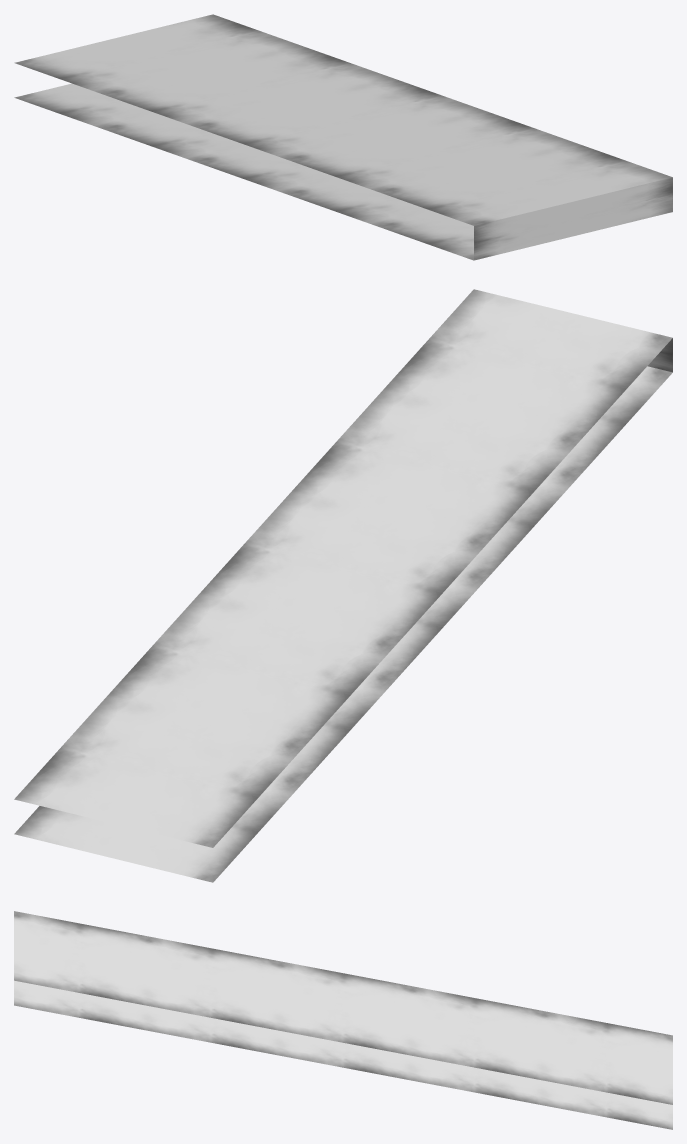
File: CourseWinter_Floor_1.fbx
3 renders of one model, top to bottom at view 1: azimuth 30°, elevation 25°; view 2: azimuth 150°, elevation 25°; view 3: azimuth 270°, elevation 25°, orthographic. The views are drawn at different scales.
Parts seen in each view (by area): view 1: polySurface9; view 2: polySurface9; view 3: polySurface9.
Boxes of the visible parts, <box> form: polySurface9: <box>14,14,672,260</box>; polySurface9: <box>14,289,672,882</box>; polySurface9: <box>14,911,672,1129</box>.
Bounding box in the file's own units: 6 × 6 × 24.
Materials: 1 (1 with a texture image).
